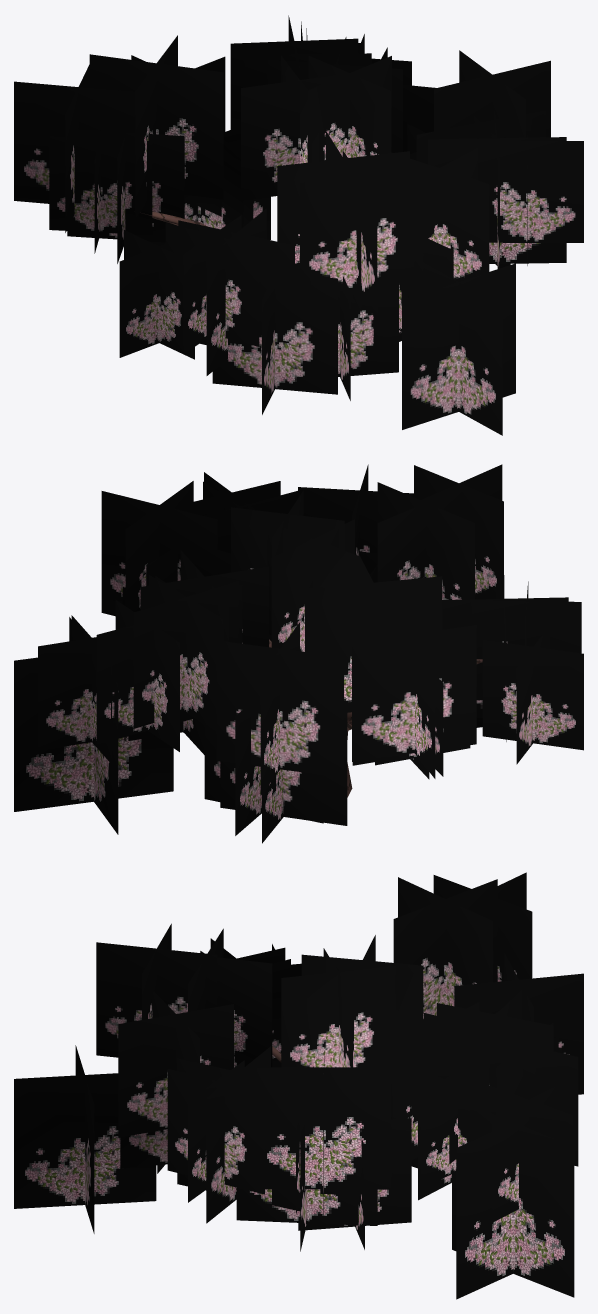
Rendered from cherry0_lod1.fbx.
The picture shows the model from 3 angles, top to bottom: view 1: azimuth 30°, elevation 25°; view 2: azimuth 150°, elevation 25°; view 3: azimuth 270°, elevation 25°; orthographic projection.
Visible parts, largest first — view 1: cherry0_lod1; view 2: cherry0_lod1; view 3: cherry0_lod1.
Part boxes in pixels (left/top/right/bottom): cherry0_lod1: left=14, top=15, right=583, bottom=435; cherry0_lod1: left=14, top=464, right=583, bottom=843; cherry0_lod1: left=14, top=872, right=583, bottom=1299.
Bounding box in the file's own units: 12.86 × 7.33 × 13.89.
2 materials, 2 textured.
